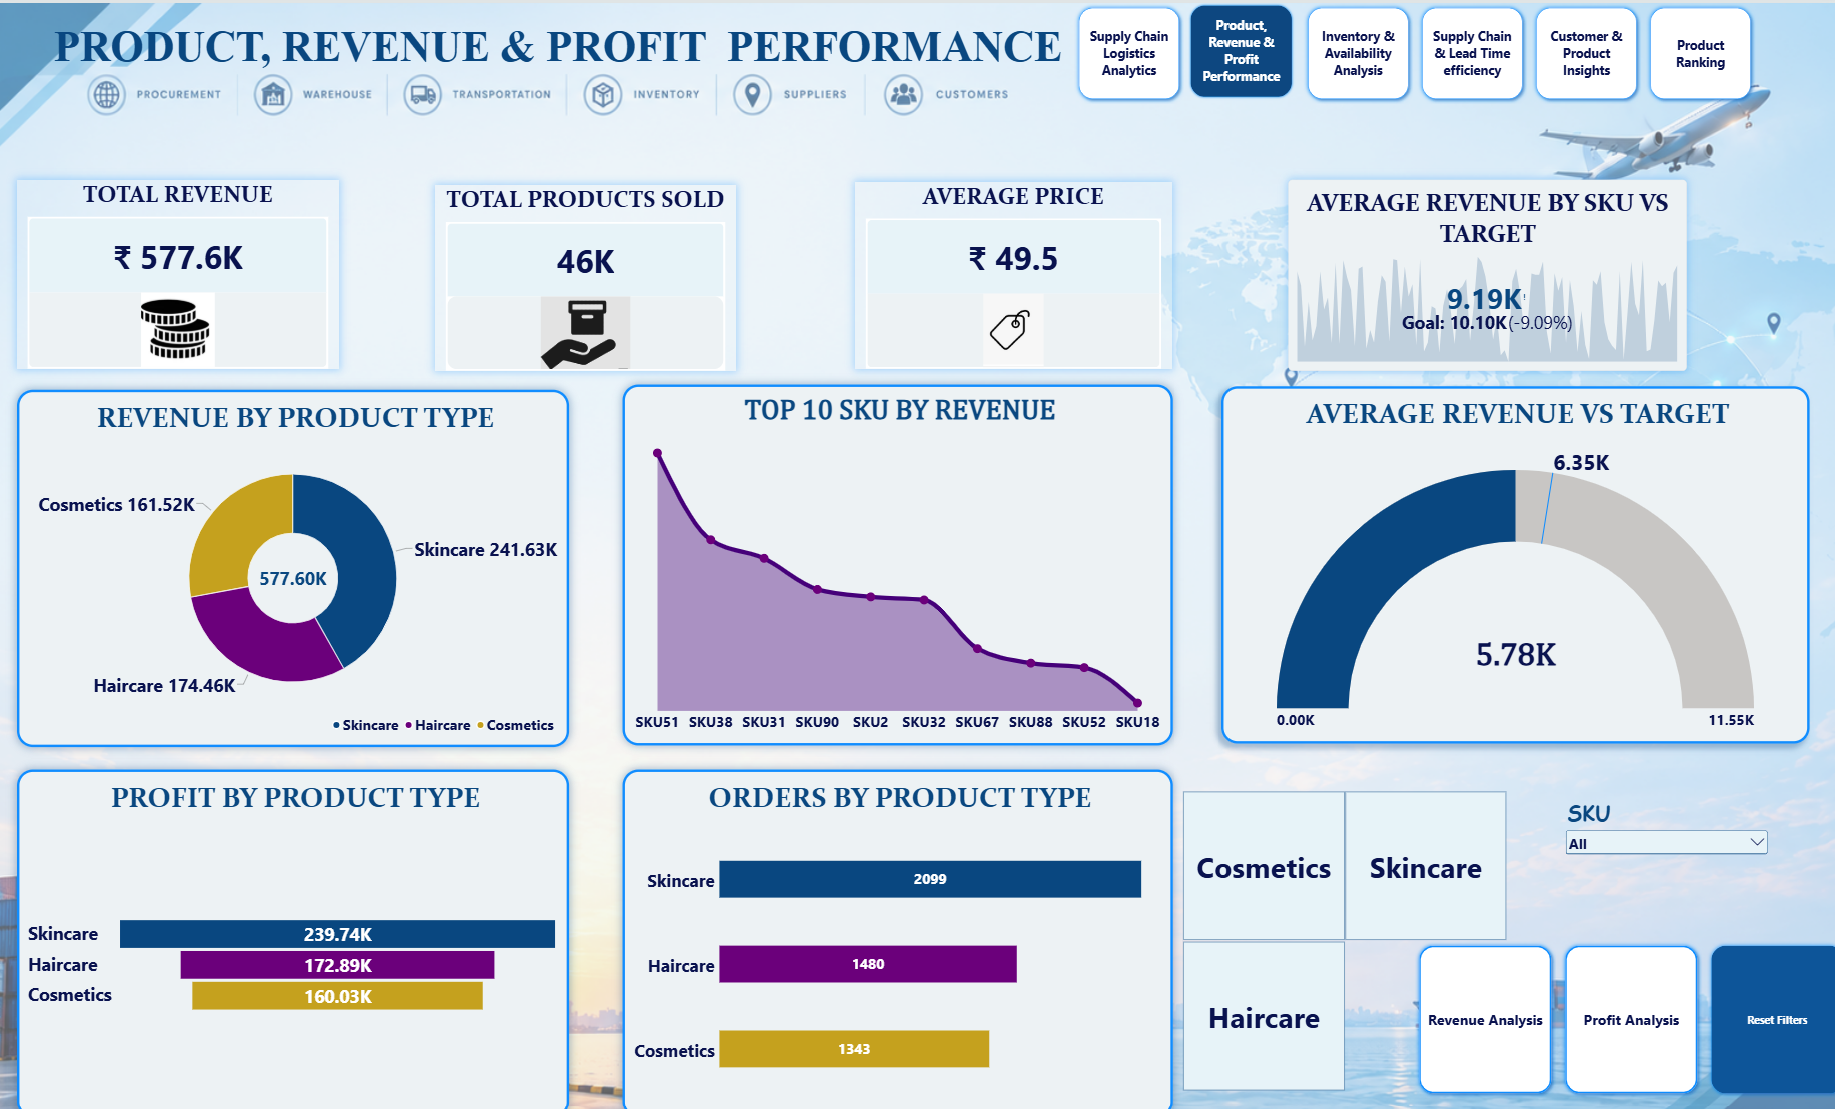

The dashboard page shown, as its layout file describes it:
{"tool":"powerbi","page":{"name":"Product, Revenue & Profit Performance","canvas":[3500,2100],"ordinal":1},"visuals":[{"type":"textbox","box":[123.3,36.7,2300,130],"z":0},{"type":"donutChart","title":"REVENUE BY PRODUCT TYPE","fields":{"Category":["supply_chain_data.Product type","supply_chain_data.Customer demographics"],"Y":["supply_chain_data.Total Revenue"]},"box":[52.7,728.5,1040,673.3],"z":1000},{"type":"kpi","title":"AVERAGE REVENUE BY SKU VS TARGET","fields":{"Goal":["supply_chain_data.Average Target"],"Indicator":["supply_chain_data.Average Revenue"],"TrendLine":["supply_chain_data.SKU"]},"box":[2446.7,333.3,750,360],"z":2000},{"type":"cardVisual","title":"AVERAGE PRICE","fields":{"Data":["supply_chain_data.Average price"]},"box":[1633.3,336.7,596.7,353.3],"z":3000},{"type":"cardVisual","title":"TOTAL PRODUCTS SOLD","fields":{"Data":["supply_chain_data.Total Units Sold"]},"box":[840,343.3,566.7,350],"z":4000},{"type":"stackedAreaChart","title":"TOP 10 SKU BY REVENUE","fields":{"Category":["supply_chain_data.SKU"],"Y":["Sum(supply_chain_data.Revenue generated)"]},"box":[1193.3,720,1036.7,680],"z":5000},{"type":"funnel","title":"PROFIT BY PRODUCT TYPE","fields":{"Category":["supply_chain_data.Product type"],"Y":["supply_chain_data.Total profit"]},"box":[53.3,1443.3,1040,656.7],"z":6000},{"type":"barChart","title":"ORDERS BY PRODUCT TYPE","fields":{"Category":["supply_chain_data.Product type"],"Y":["Sum(supply_chain_data.Order quantities)"]},"box":[1193.3,1443.3,1036.7,656.7],"z":7000},{"type":"gauge","title":"AVERAGE REVENUE VS TARGET","fields":{"TargetValue":["supply_chain_data.Average Target"],"Y":["supply_chain_data.Average Revenue"]},"box":[2320.8,722,1106.7,673.3],"z":8000},{"type":"slicer","fields":{"Values":["supply_chain_data.Product type"]},"box":[2228.5,1483.5,646.7,566.7],"z":9000},{"type":"slicer","fields":{"Values":["supply_chain_data.SKU"]},"box":[2963.3,1496.7,389.8,112.1],"z":10000},{"type":"cardVisual","title":"TOTAL REVENUE","fields":{"Data":["supply_chain_data.Total Revenue"]},"box":[53.3,333.3,606.7,356.7],"z":11000},{"type":"pageNavigator","box":[2043.3,0,1283.3,190],"z":12000},{"type":"bookmarkNavigator","box":[2874.6,1803.2,626.4,296.7],"z":13000}]}

Visuals, with their boxes in screenshot pixels (x1, y1, x2, y2), scaled from the page's 3500x2100 canvas onto the 1835x1109 screenshot:
textbox: (65,19,1271,88)
"REVENUE BY PRODUCT TYPE" donutChart: (28,385,573,740)
"AVERAGE REVENUE BY SKU VS TARGET" kpi: (1283,176,1676,366)
"AVERAGE PRICE" cardVisual: (856,178,1169,364)
"TOTAL PRODUCTS SOLD" cardVisual: (440,181,738,366)
"TOP 10 SKU BY REVENUE" stackedAreaChart: (626,380,1169,739)
"PROFIT BY PRODUCT TYPE" funnel: (28,762,573,1108)
"ORDERS BY PRODUCT TYPE" barChart: (626,762,1169,1108)
"AVERAGE REVENUE VS TARGET" gauge: (1217,381,1797,737)
slicer - supply_chain_data.Product type: (1168,783,1507,1083)
slicer - supply_chain_data.SKU: (1554,790,1758,850)
"TOTAL REVENUE" cardVisual: (28,176,346,364)
pageNavigator: (1071,0,1744,100)
bookmarkNavigator: (1507,952,1834,1108)
